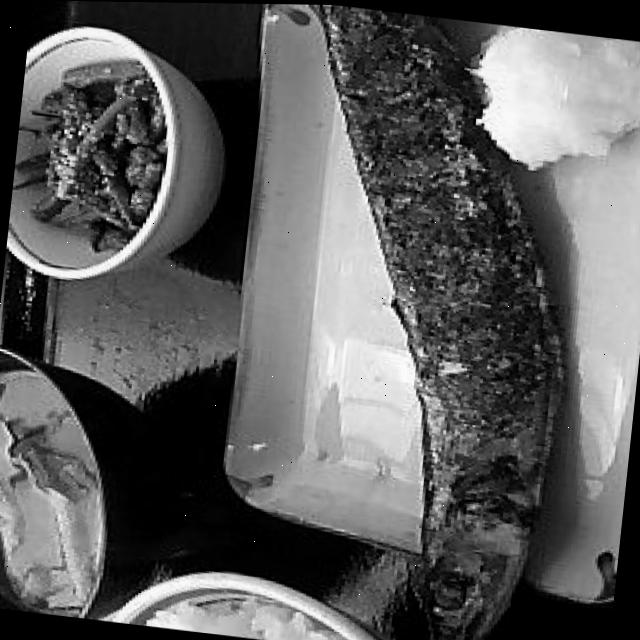熟制海鲜: (174, 2, 640, 640)
